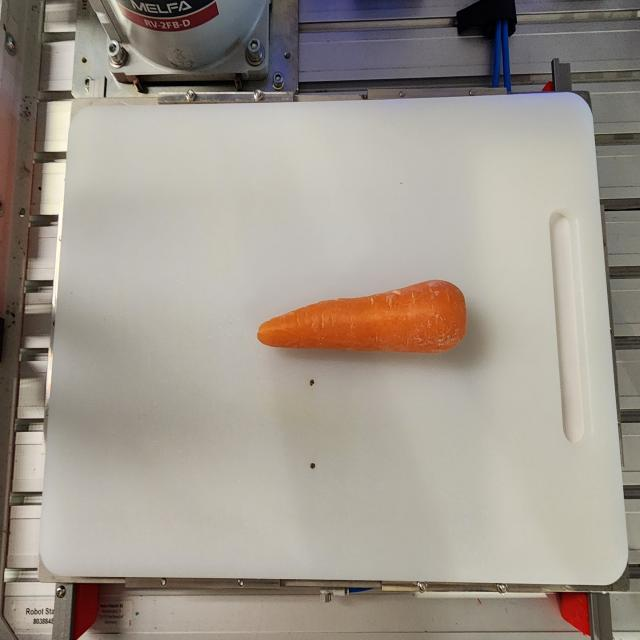carrot: (257, 278, 467, 354)
